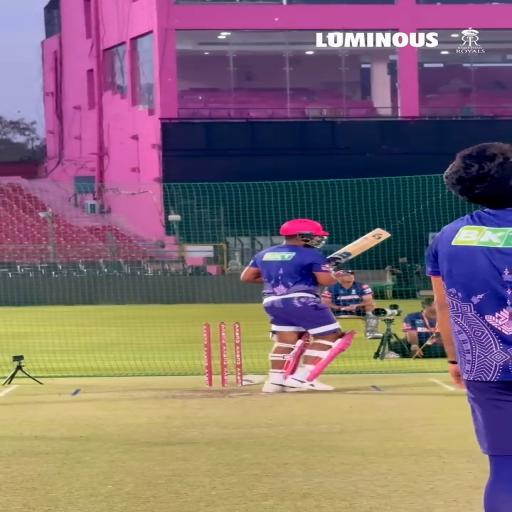Cricket bat: (329, 228, 390, 262)
